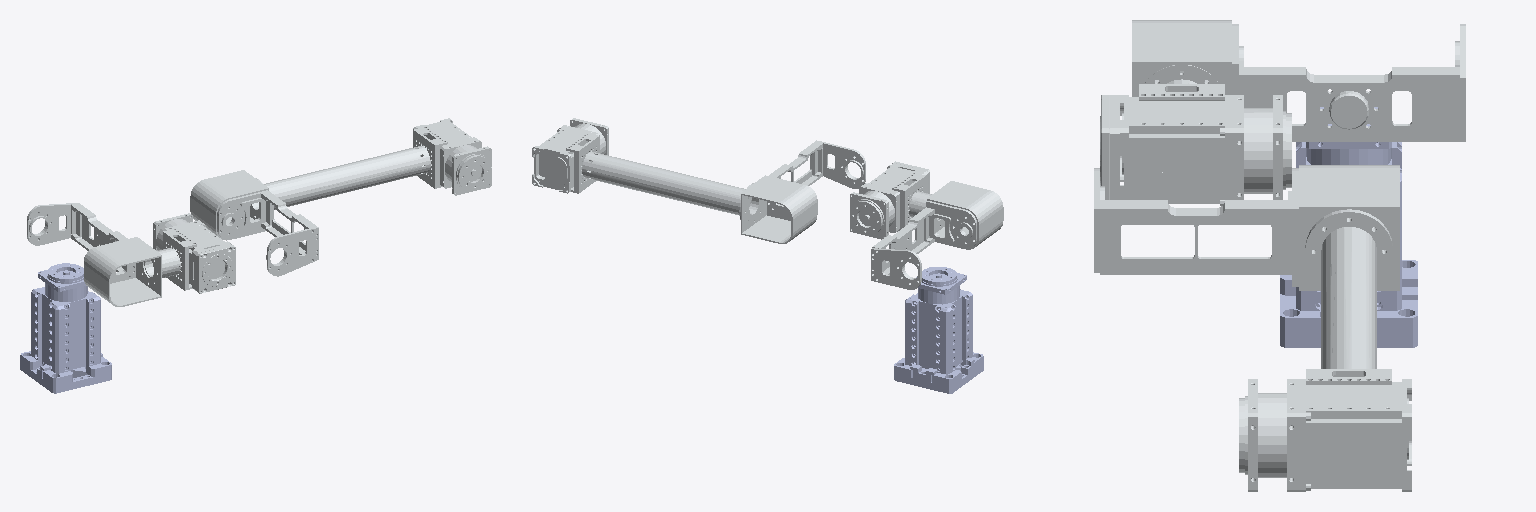
robot.urdf — single_arm_v12:
<?xml version="1.0" encoding="utf-8"?>
<!-- This URDF was automatically created by SolidWorks to URDF Exporter! Originally created by [author] ([email redacted]) 
     Commit Version: 1.6.0-4-g7f85cfe  Build Version: 1.6.7995.38578
     For more information, please see http://wiki.ros.org/sw_urdf_exporter -->
<robot
  name="single_arm_v12">
  <link name="dummy"/>
  <joint name="dummy_joint" type="fixed">
    <parent link="dummy"/>
    <child link="base_link"/>
    </joint>
  <link name='base_link'>
  <!-- <link
    name="base_link"> -->
    <inertial>
      <origin
        xyz="0.00015625 0.00020296 0.064397"
        rpy="0 0 0" />
      <mass
        value="0.47711" />
      <inertia
        ixx="0.00059036"
        ixy="3.555E-10"
        ixz="4.1821E-06"
        iyy="0.00058997"
        iyz="9.8398E-08"
        izz="0.00022102" />
    </inertial>
    <visual>
      <origin
        xyz="0 0 0"
        rpy="0 0 0" />
      <geometry>
        <mesh
          filename="package://single_arm_v12/meshes/base_link.STL" />
      </geometry>
      <material
        name="">
        <color
          rgba="0.79216 0.81961 0.93333 1" />
      </material>
    </visual>
    <collision>
      <origin
        xyz="0 0 0"
        rpy="0 0 0" />
      <geometry>
        <mesh
          filename="package://single_arm_v12/meshes/base_link.STL" />
      </geometry>
    </collision>
  </link>
  <link
    name="Link1">
    <inertial>
      <origin
        xyz="3.4484E-06 0.00039863 0.028769"
        rpy="0 0 0" />
      <mass
        value="0.38613" />
      <inertia
        ixx="0.00047431"
        ixy="-7.0827E-08"
        ixz="-3.5556E-10"
        iyy="0.00017465"
        iyz="4.1821E-06"
        izz="0.00048907" />
    </inertial>
    <visual>
      <origin
        xyz="0 0 0"
        rpy="0 0 0" />
      <geometry>
        <mesh
          filename="package://single_arm_v12/meshes/Link1.STL" />
      </geometry>
      <material
        name="">
        <color
          rgba="0.79216 0.81961 0.93333 1" />
      </material>
    </visual>
    <collision>
      <origin
        xyz="0 0 0"
        rpy="0 0 0" />
      <geometry>
        <mesh
          filename="package://single_arm_v12/meshes/Link1.STL" />
      </geometry>
    </collision>
  </link>
  <joint
    name="Joint1"
    type="revolute">
    <origin
      xyz="0 0 0.1445"
      rpy="0 0 0" />
    <parent
      link="base_link" />
    <child
      link="Link1" />
    <axis
      xyz="0 0 1" />
    <limit
      lower="-3.14"
      upper="3.14"
      effort="50"
      velocity="0" />
  </joint>
  <link
    name="Link2">
    <inertial>
      <origin
        xyz="0.16900986466963766 -0.00036483876128169874 0.016937524376935444"
        rpy="0 0 0" />
      <mass
        value="0.43876148089988687"  />
      <inertia
        ixx="0.0010892688772660445"
        ixy="-1.8722162552898142e-05"
        ixz="-0.0006243755112990676"
        iyy="0.003469278563838592"
        iyz="-1.5236867115786202e-05"
        izz="0.002599167817616896" />
    </inertial>
    <visual>
      <origin
        xyz="0 0 0"
        rpy="0 0 0" />
      <geometry>
        <mesh
          filename="package://dynamics/src/dynamics/meshes/merged_single_arm_axis_2.STL" />
      </geometry>
      <material
        name="">
        <color
          rgba="0.89804 0.91765 0.92941 1" />
      </material>
    </visual>
    <collision>
      <origin
        xyz="0 0 0"
        rpy="0 0 0" />
      <geometry>
        <mesh
          filename="package://dynamics/src/dynamics/meshes/merged_single_arm_axis_2.STL" />
      </geometry>
    </collision>
  </link>
  <joint
    name="Joint2"
    type="revolute">
    <origin
      xyz="0 -0.0685 0.0315"
      rpy="1.5708 0 0" />
    <parent
      link="Link1" />
    <child
      link="Link2" />
    <axis
      xyz="0 0 1" />
    <limit
      lower="-3.14"
      upper="3.14"
      effort="50"
      velocity="0" />
  </joint>
  <link
    name="Link3">
    <inertial>
      <origin
        xyz="0.1685283391021184 0.00024614068739338467 -0.015469611120662525"
        rpy="0 0 0" />
      <mass
        value="0.3992391278891867"  />
      <inertia
        ixx="0.0007713072651393328"
        ixy="1.1748581001310161e-05"
        ixz="0.0003883831708152653"
        iyy="0.002965734953430601"
        iyz="-8.708246823857887e-06"
        izz="0.002395743959726687" />
    </inertial>
    <visual>
      <origin
        xyz="0 0 0"
        rpy="0 0 0" />
      <geometry>
        <mesh
          filename="package://dynamics/src/dynamics/meshes/merged_single_arm_axis_3.STL" />
      </geometry>
      <material
        name="">
        <color
          rgba="0.898039215686275 0.917647058823529 0.929411764705882 1" />
      </material>
    </visual>
    <collision>
      <origin
        xyz="0 0 0"
        rpy="0 0 0" />
      <geometry>
        <mesh
          filename="package://dynamics/src/dynamics/meshes/merged_single_arm_axis_3.STL" />
      </geometry>
    </collision>
  </link>
  <joint
    name="Joint3"
    type="revolute">
    <origin
      xyz="0.214 0 -0.0325"
      rpy="0 0 0" />
    <parent
      link="Link2" />
    <child
      link="Link3" />
    <axis
      xyz="0 0 -1" />
    <limit
      lower="-3.14"
      upper="3.14"
      effort="50"
      velocity="0" />
  </joint>
</robot>

--- Facts derived from the render (not from the file) ---
The picture shows the robot from 3 angles, left to right: view 1: azimuth 30°, elevation 25°; view 2: azimuth 150°, elevation 25°; view 3: azimuth 270°, elevation 25°; orthographic projection.
Model single_arm_v12 with 5 links and 4 joints (3 revolute, 1 fixed), rooted at dummy, posed all joints at 0.
Links seen in each view (by area): view 1: Link3, Link2, base_link; view 2: Link3, Link2, base_link; view 3: Link3, Link2, base_link.
Link boxes in pixels (x1,y1,x2,y2): Link3: (190, 118, 491, 276); Link2: (27, 203, 235, 306); base_link: (20, 263, 111, 393); Link3: (532, 118, 865, 243); Link2: (850, 161, 1003, 289); base_link: (894, 267, 983, 393); Link3: (1094, 165, 1411, 491); Link2: (1100, 20, 1465, 205); base_link: (1280, 107, 1417, 347).
Size in the robot's own frame: 0.6194 by 0.2325 by 0.206 metres.
Meshes: 4 distinct files referenced, 3 mesh visuals loaded (3 binary STL); not drawn: 1 (reference not matched to a file when rendering).
